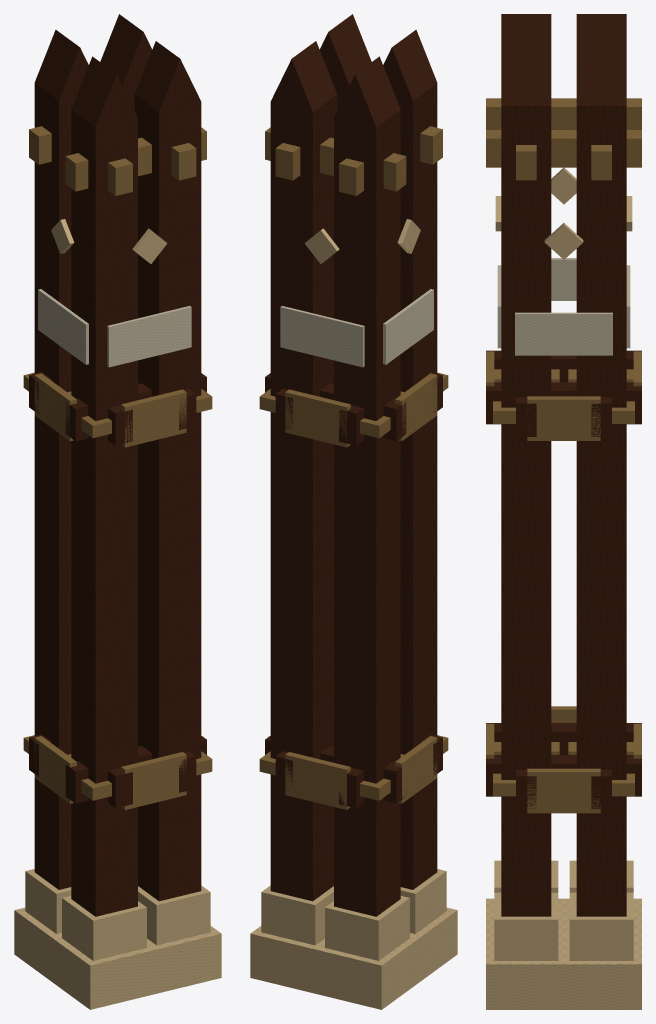
Rendered from Berber_PalisadeBastion_Age4_junction_cross.fbx.
3 views of the same model, side by side, from view 1: azimuth 30°, elevation 25°; view 2: azimuth 150°, elevation 25°; view 3: azimuth 270°, elevation 25° (orthographic). The views are drawn at different scales.
Parts seen in each view (by area): view 1: split_timber_upright.016, split_timber_upright.018, split_timber_upright.017, compacted_earth_footing.004, earth_post_socket.016, native_owner_stripe_source.018, earth_post_socket.018, exposed_wall_socket_collar.023, split_timber_upright.019, exposed_wall_socket_collar.022, native_owner_stripe_source.016, earth_post_socket.017 (+14 smaller); view 2: split_timber_upright.017, split_timber_upright.019, split_timber_upright.016, compacted_earth_footing.004, earth_post_socket.017, native_owner_stripe_source.019, earth_post_socket.019, exposed_wall_socket_collar.018, exposed_wall_socket_collar.019, split_timber_upright.018, native_owner_stripe_source.016, earth_post_socket.016 (+14 smaller); view 3: split_timber_upright.018, split_timber_upright.019, compacted_earth_footing.004, native_owner_stripe_source.017, earth_post_socket.018, earth_post_socket.019, exposed_wall_socket_collar.016, exposed_wall_socket_collar.017, locking_head_tie_y.009, locking_head_tie_y.008, split_timber_upright.016, split_timber_upright.017 (+18 smaller).
Boxes of the visible parts, x1,y1,x2,y2 form: split_timber_upright.016: (71,56,137,916); split_timber_upright.018: (134,41,201,901); split_timber_upright.017: (34,30,88,889); compacted_earth_footing.004: (14,907,221,1009); earth_post_socket.016: (62,896,146,960); native_owner_stripe_source.018: (107,306,191,367); earth_post_socket.018: (138,885,210,945); exposed_wall_socket_collar.023: (121,389,186,447); split_timber_upright.019: (100,14,152,109); exposed_wall_socket_collar.022: (121,752,186,809); native_owner_stripe_source.016: (38,289,88,364); earth_post_socket.017: (25,869,71,933); split_timber_upright.017: (334,56,400,916); split_timber_upright.019: (270,41,337,901); split_timber_upright.016: (383,30,437,889); compacted_earth_footing.004: (250,907,457,1009); earth_post_socket.017: (325,896,409,960); native_owner_stripe_source.019: (280,306,364,367); earth_post_socket.019: (261,885,333,945); exposed_wall_socket_collar.018: (285,752,350,809); exposed_wall_socket_collar.019: (285,389,350,447); split_timber_upright.018: (319,14,371,109); native_owner_stripe_source.016: (383,289,433,364); earth_post_socket.016: (400,869,446,933); split_timber_upright.018: (501,46,551,916); split_timber_upright.019: (576,46,626,916); compacted_earth_footing.004: (486,898,641,1009); native_owner_stripe_source.017: (515,312,612,355); earth_post_socket.018: (494,892,558,960); earth_post_socket.019: (569,892,633,960); exposed_wall_socket_collar.016: (527,768,600,813); exposed_wall_socket_collar.017: (527,396,600,440); locking_head_tie_y.009: (486,130,641,167); locking_head_tie_y.008: (486,98,641,129); split_timber_upright.016: (501,14,551,45); split_timber_upright.017: (576,14,626,45).
Size of the model in its own units: 68.29 by 458 by 68.29.
4 materials, 4 textured.
